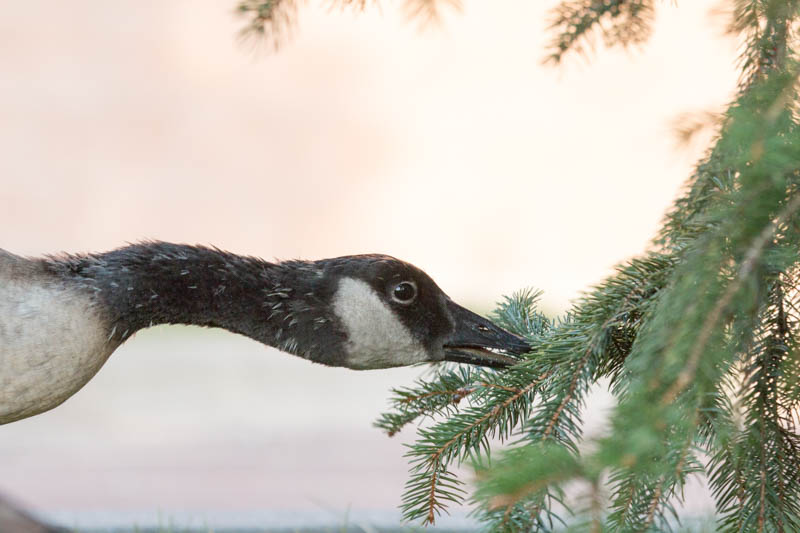goose-head: (289, 254, 534, 370)
